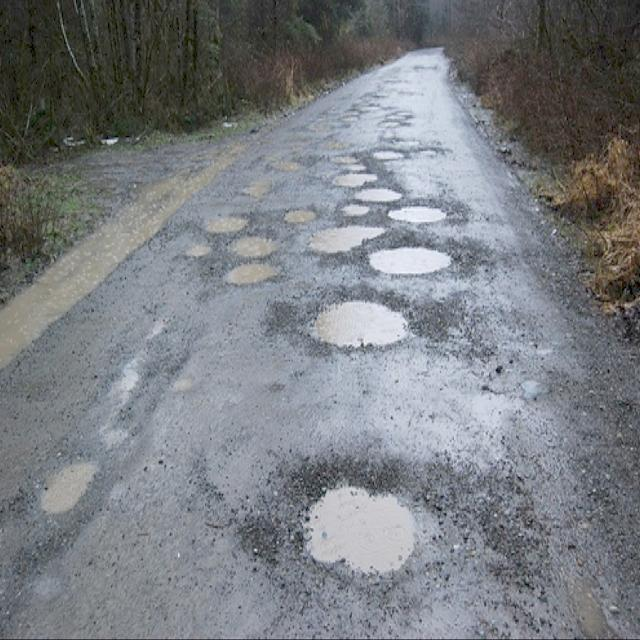Pothole: (198, 124, 490, 383)
